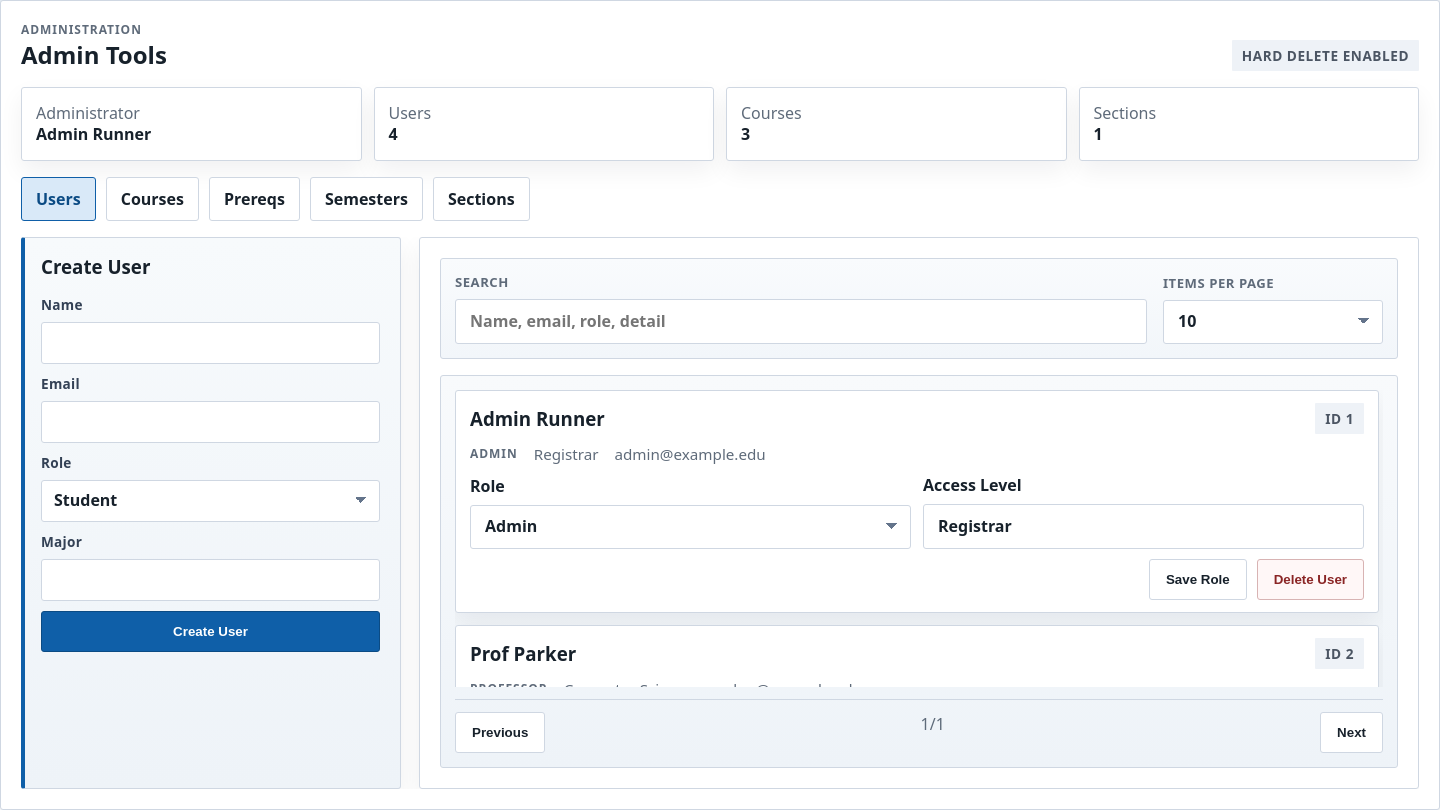
Scenario: AdminConsolePage › surfaces duplicate user creation errors inline
Type "Duplicate Student" into the field labelled "Name" at (210, 343), box [41,322,380,364]
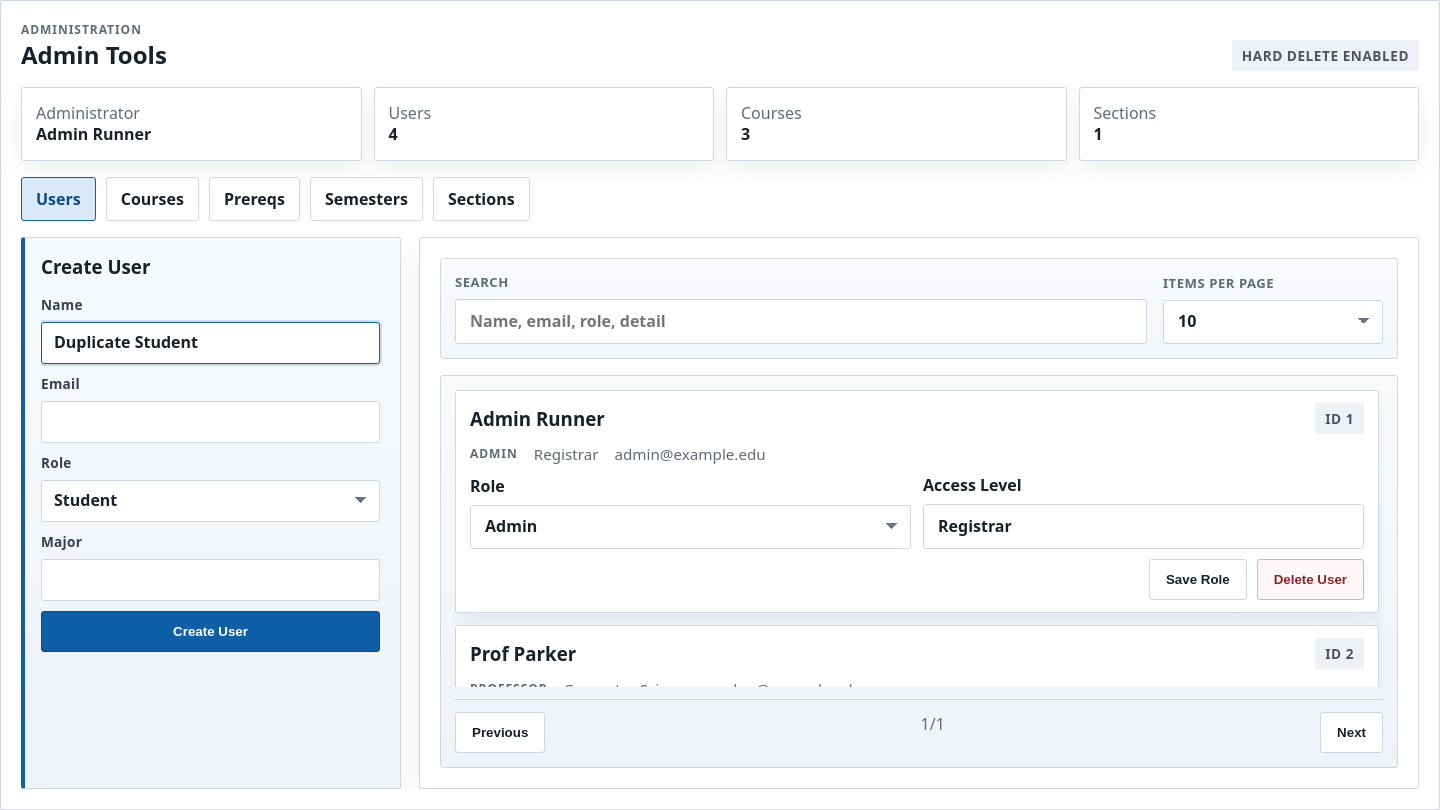
Type "lane@example.edu" into the field labelled "Email" at (210, 422), box [41,401,380,443]
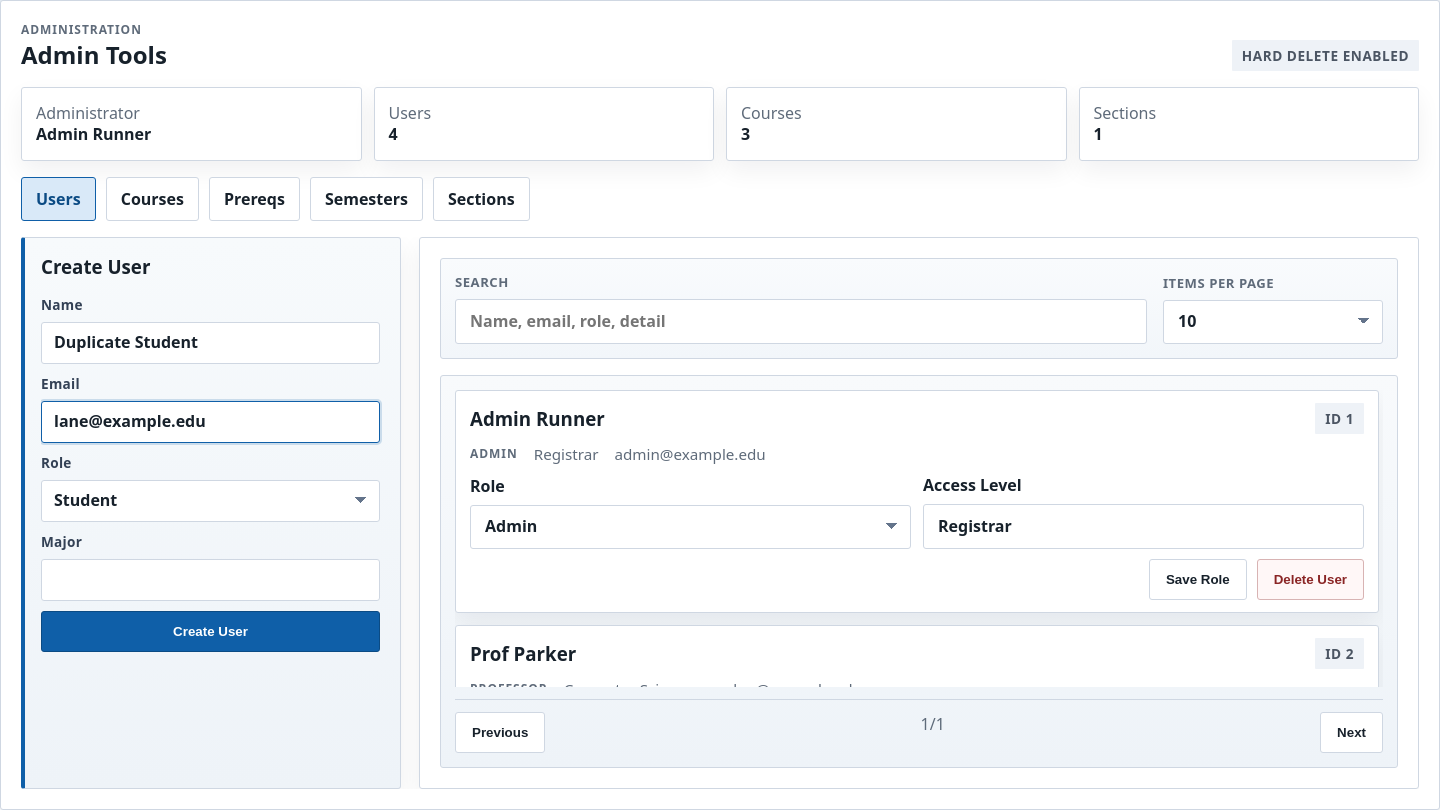
Type "Software Engineering" into the field labelled "Major" at (210, 580), box [41,559,380,601]
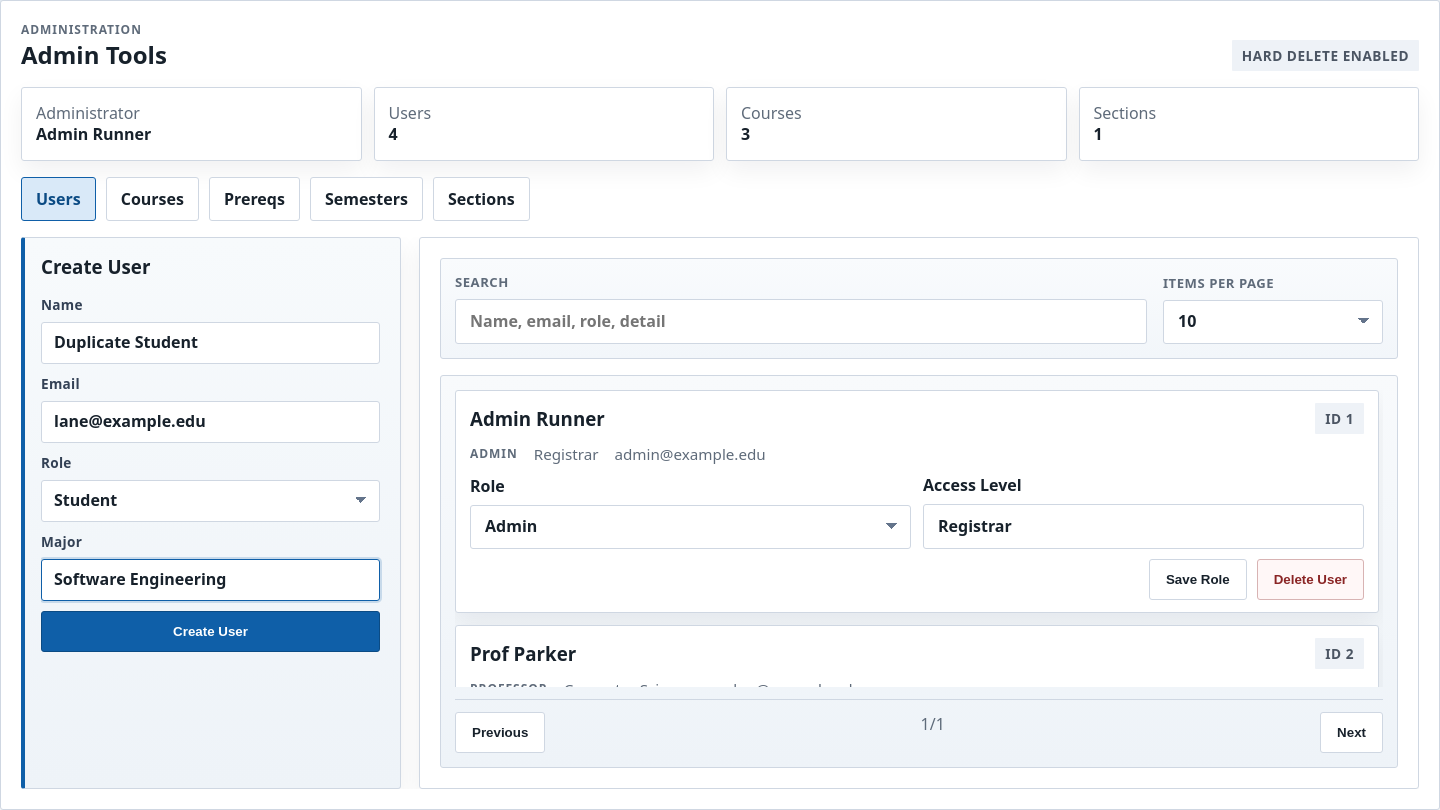
Click the button "Create User" at (210, 631), box [41,611,380,652]
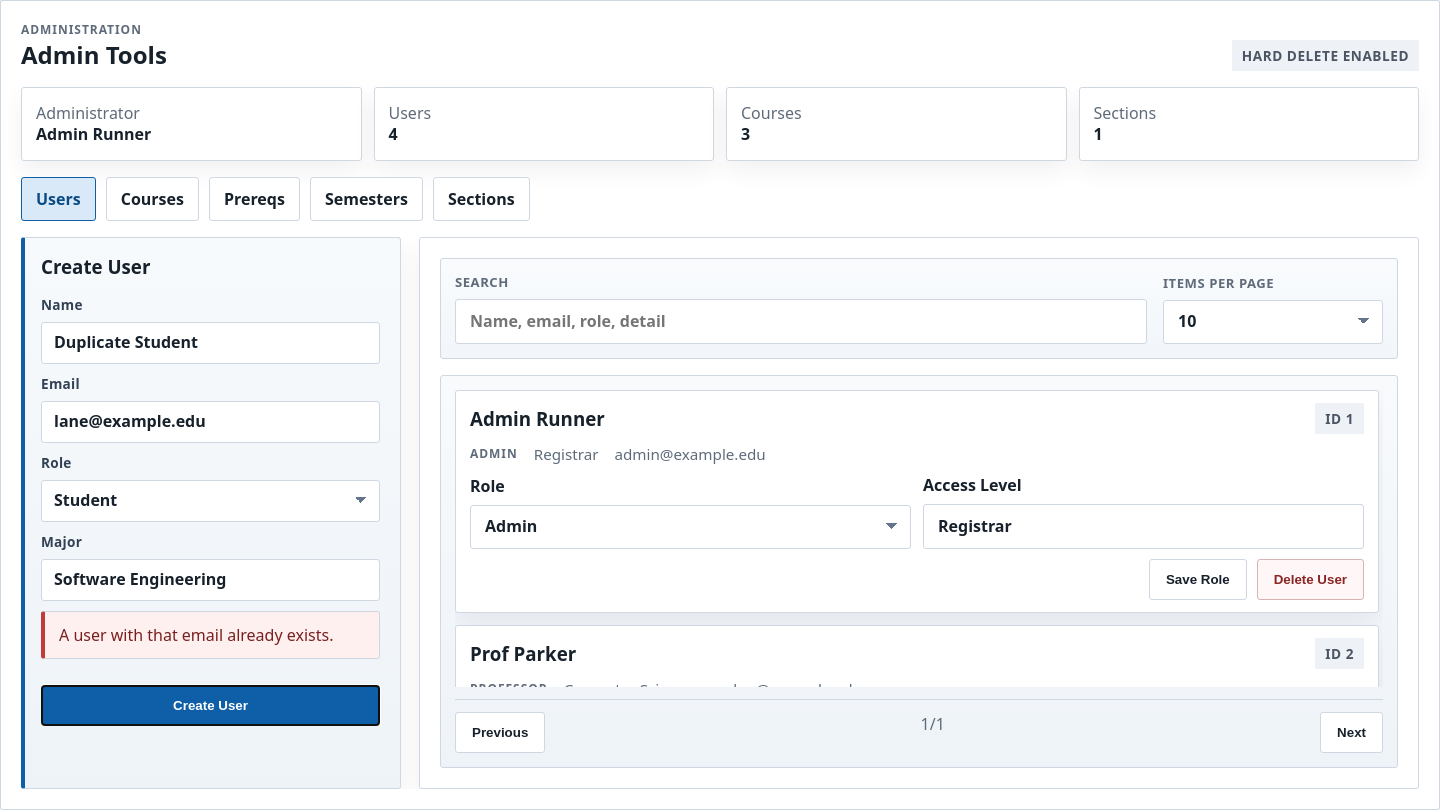
Expected: the text "A user with that email already exists." is shown, [41,611,380,659]
